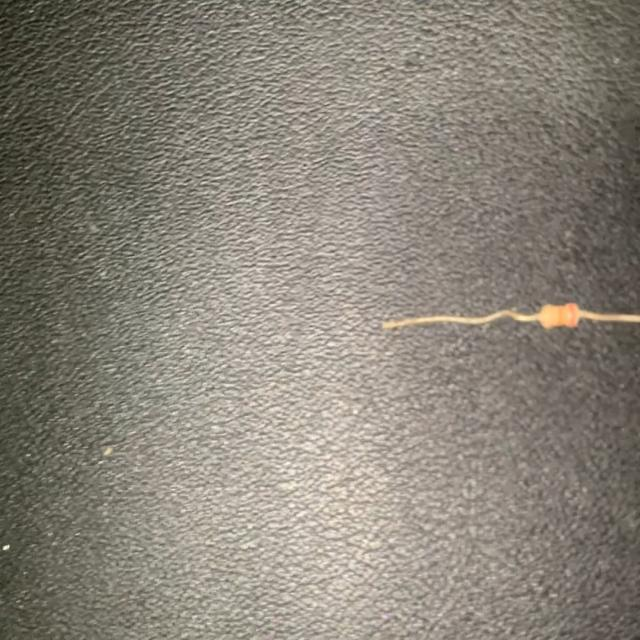resistor: (375, 286, 640, 348)
